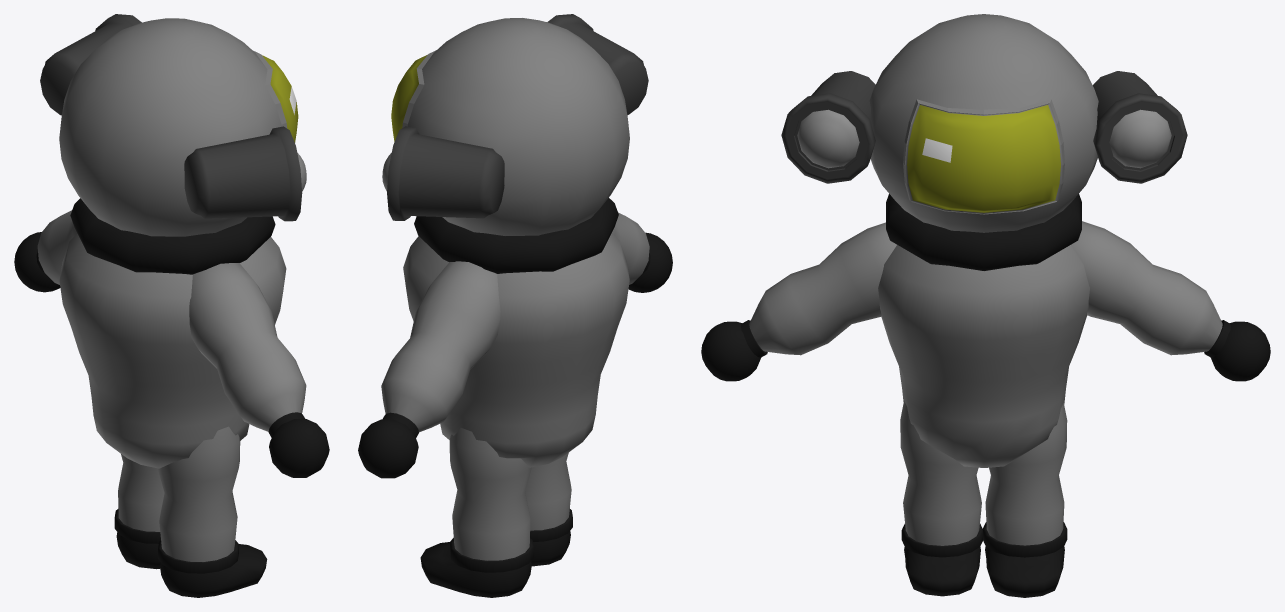
Rendered from Space_Man.fbx.
3 renders of one model, left to right at view 1: azimuth 30°, elevation 25°; view 2: azimuth 150°, elevation 25°; view 3: azimuth 270°, elevation 25°, orthographic.
Parts seen in each view (by area): view 1: polySurface146; view 2: polySurface146; view 3: polySurface146.
Boxes of the visible parts, box(x1,y1,x2,y2) form: polySurface146: box(14, 14, 329, 597); polySurface146: box(358, 14, 672, 597); polySurface146: box(701, 14, 1270, 597).
Bounding box in the file's own units: 4.92 × 11.93 × 11.37.
